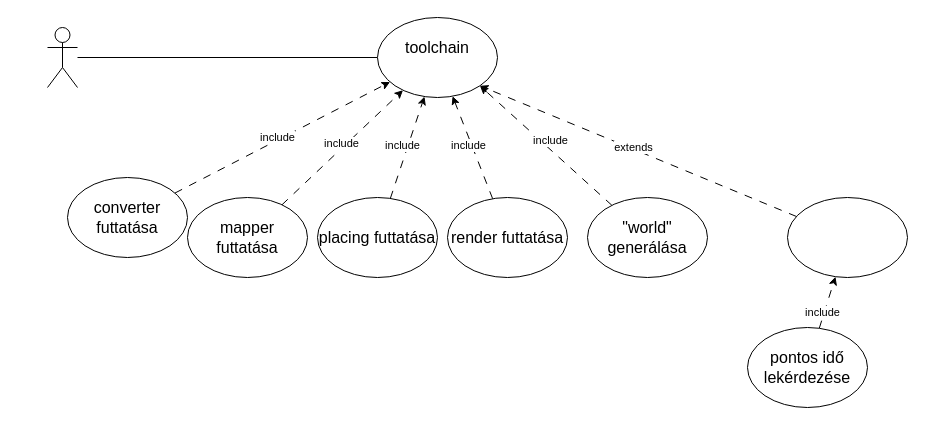
Image size: 925x425. Some labels were removed from this diagram. The shapes that lost their labels are listed below. From the top down, each one's centre as x and y in pixels, then its label:
At pixel 62 57: "felhasználó".
At pixel 847 237: "konzol kiírás".
